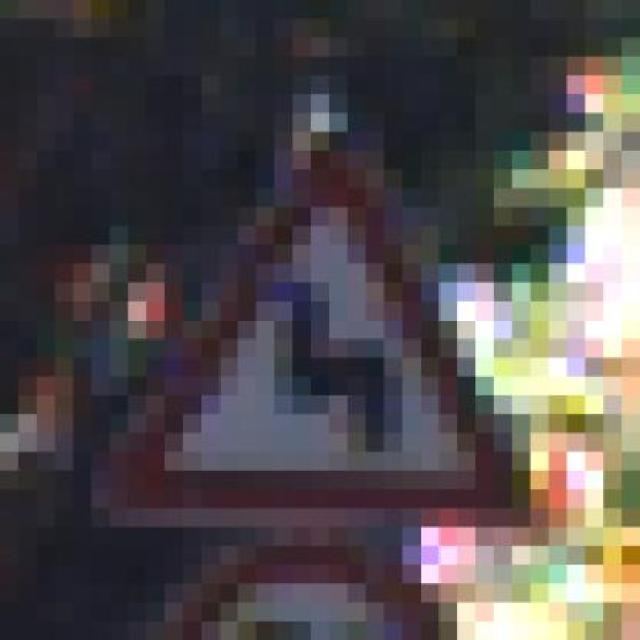Left Zig Zag Traffic: (73, 113, 549, 527)
